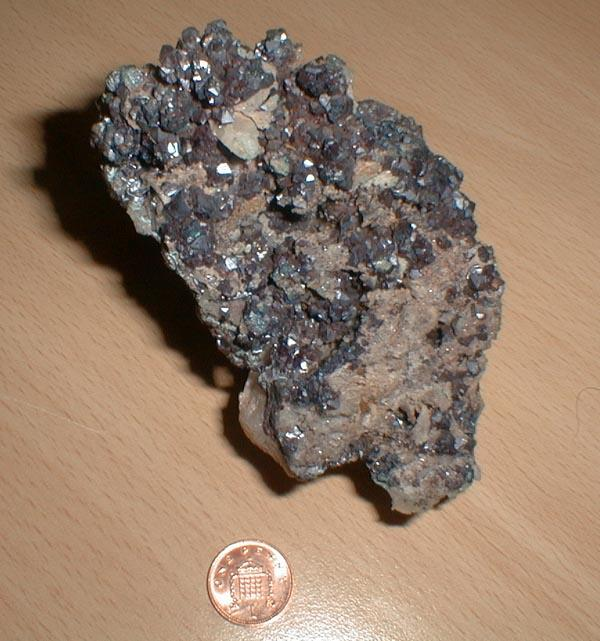cuprite: (93, 20, 480, 410)
